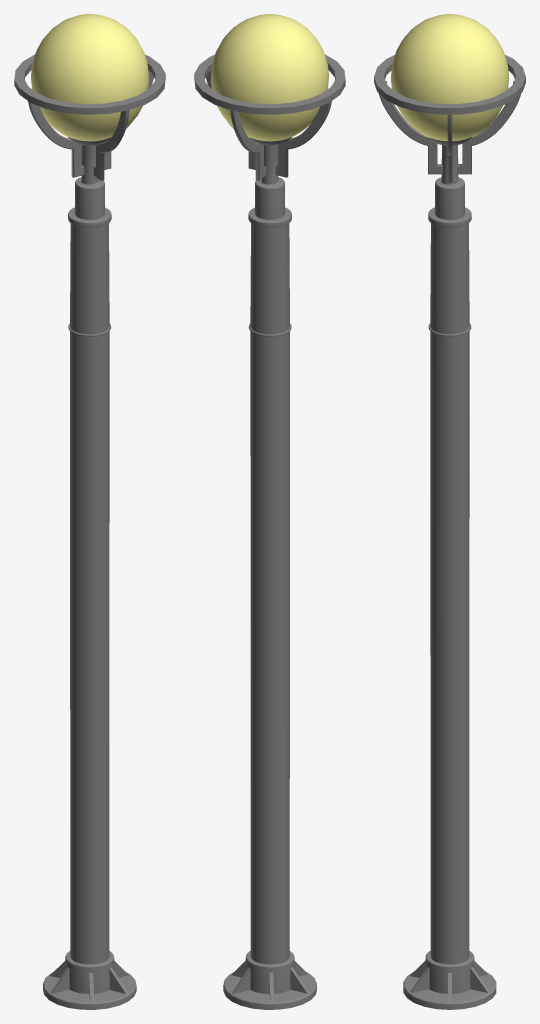
The model's file is Street_Light_A.FBX.
The picture shows the model from 3 angles, left to right: view 1: azimuth 30°, elevation 25°; view 2: azimuth 150°, elevation 25°; view 3: azimuth 270°, elevation 25°; orthographic projection.
Parts seen in each view (by area): view 1: Street_Light_A; view 2: Street_Light_A; view 3: Street_Light_A.
Boxes of the visible parts, x1,y1,x2,y2 form: Street_Light_A: [14, 14, 165, 1009]; Street_Light_A: [194, 14, 345, 1009]; Street_Light_A: [374, 14, 525, 1009].
Bounding box in the file's own units: 44.6 × 318 × 45.06.
